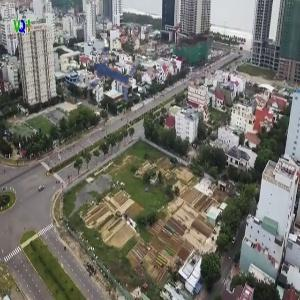drone: (68, 35, 144, 111)
